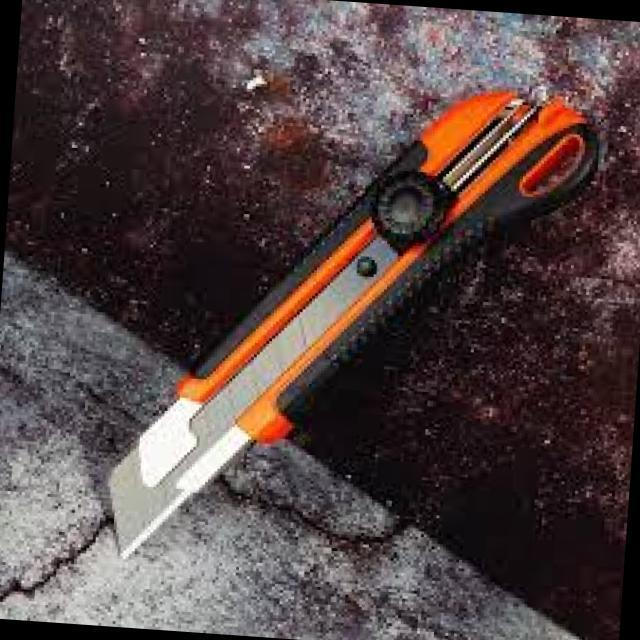cutter: (90, 52, 616, 596)
